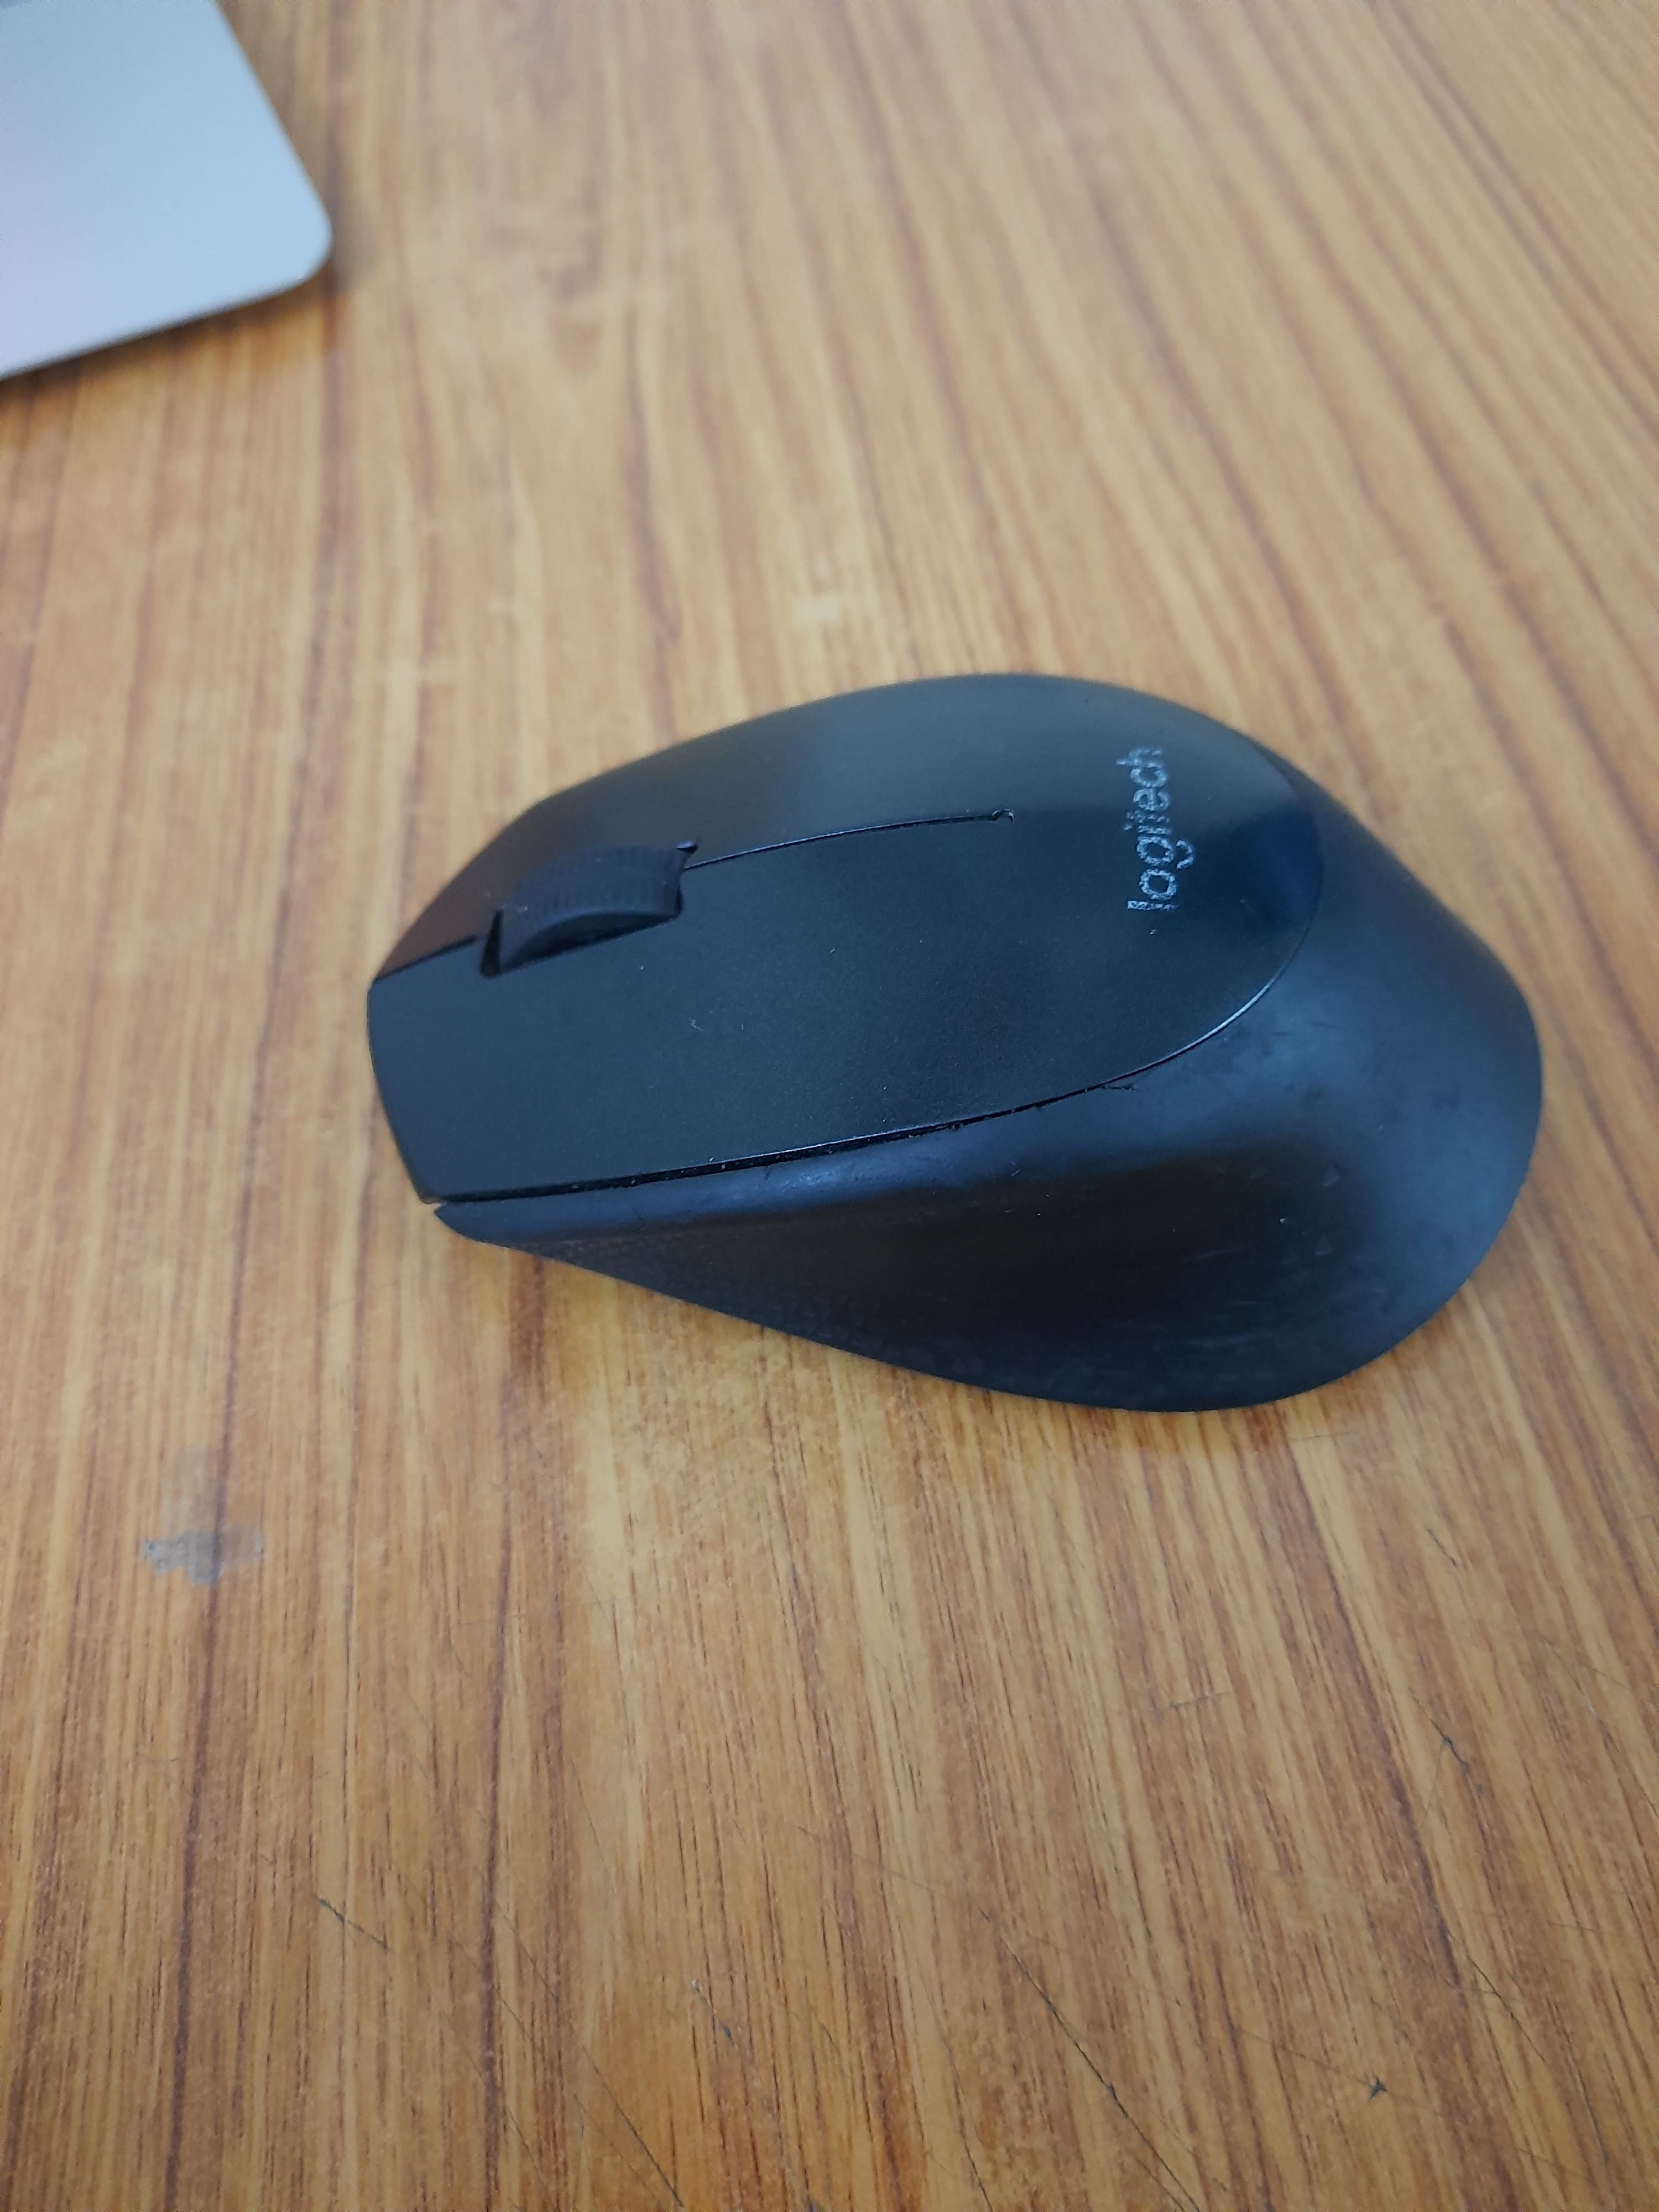Vikash's Mouse: (369, 672, 1553, 1425)
